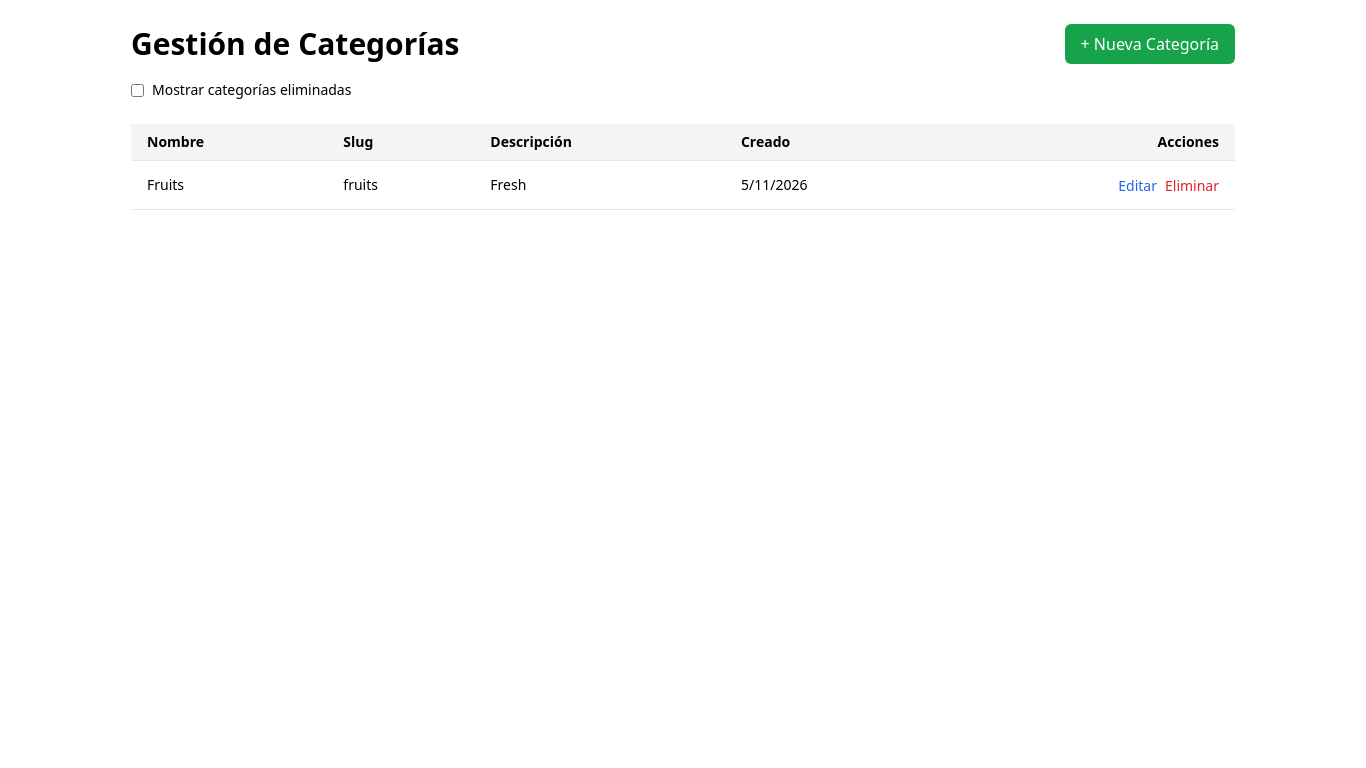
CategoriesPage Delete Flow › opens delete confirmation modal
Note: Click the first delete button in the table
Click the button "Eliminar". click: x=1192, y=186
box: [1165, 176, 1219, 196]
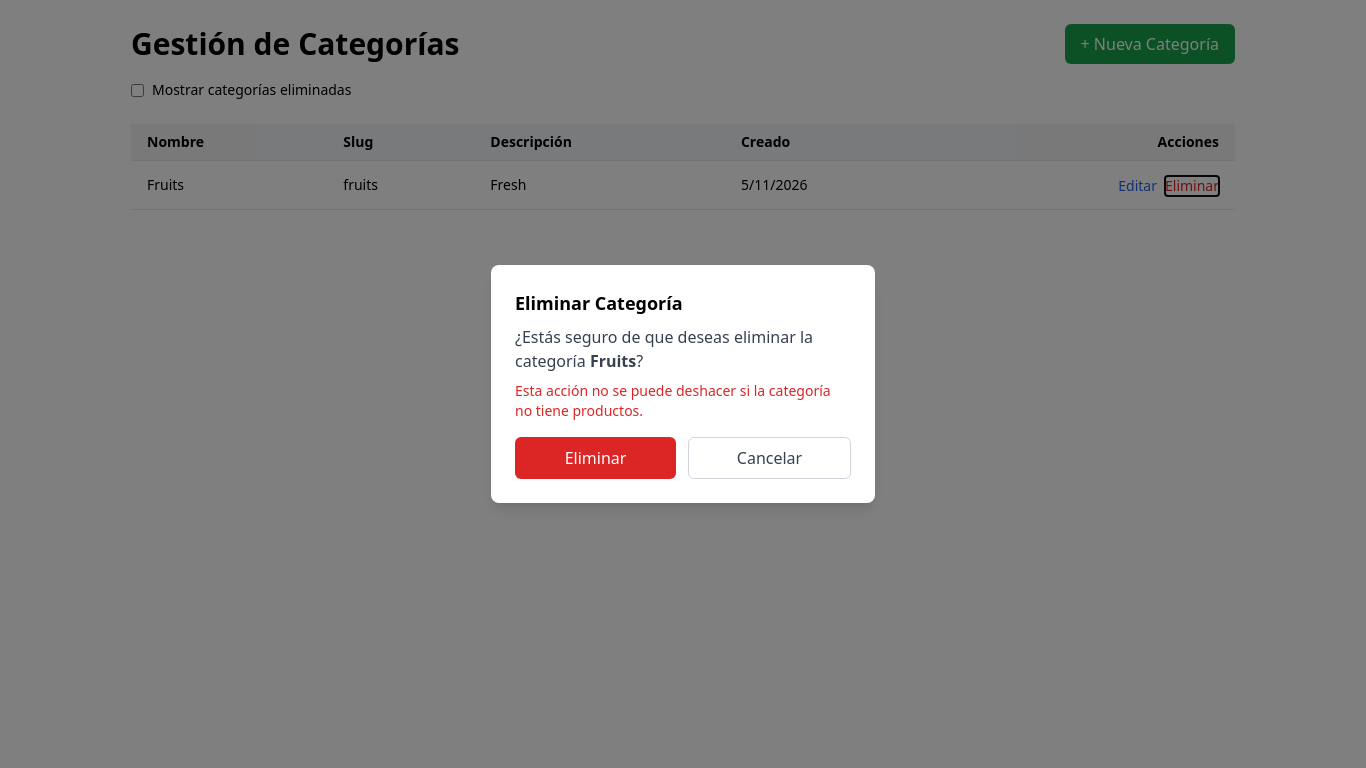
Check: the text "¿Estás seguro de que deseas eliminar la categoría Fruits?" is shown, box [515, 325, 851, 373]
